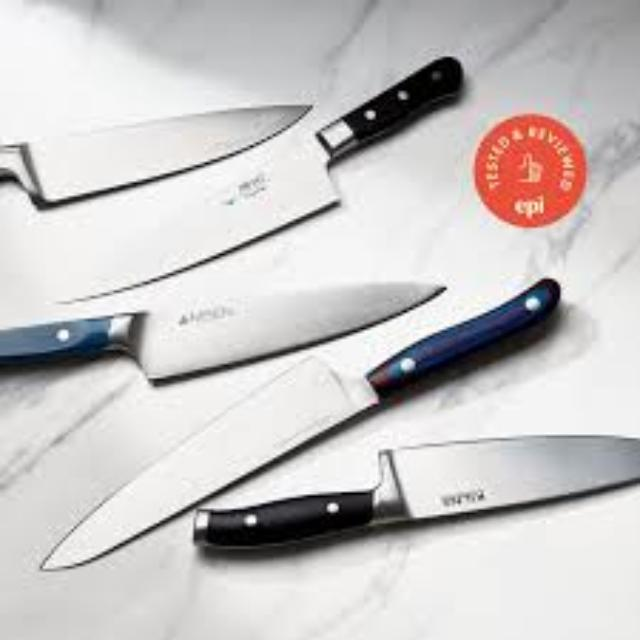knife: (38, 276, 560, 568), (1, 54, 463, 324), (191, 433, 637, 549), (0, 276, 446, 384), (0, 100, 312, 208)
